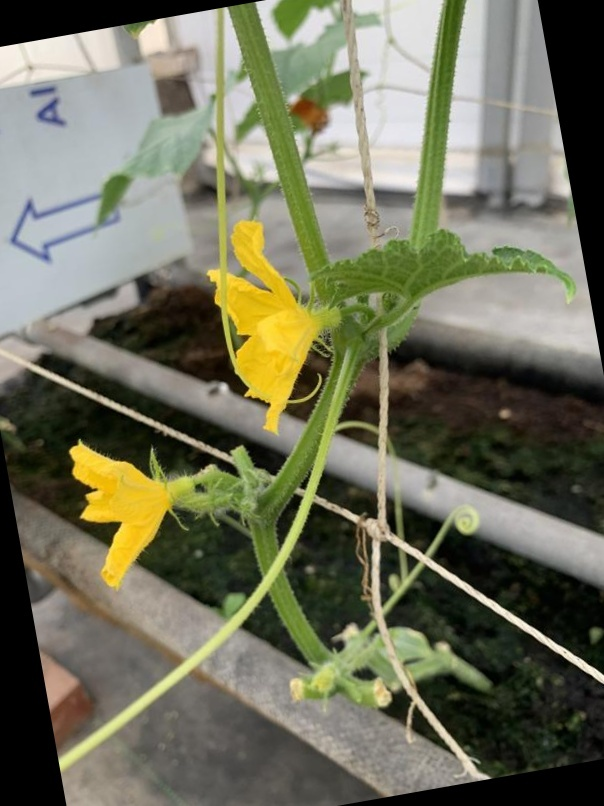flowering: (202, 212, 347, 424), (66, 432, 206, 586)
